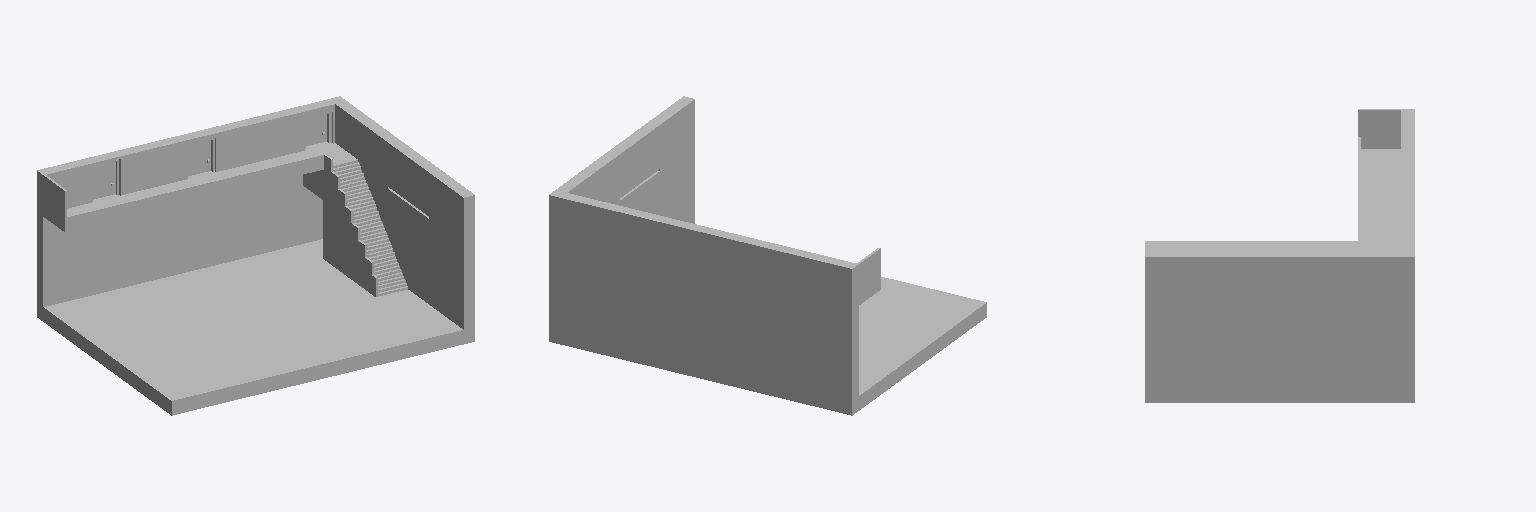
The model's file is interior.obj.
3 renders of one model, left to right at view 1: azimuth 30°, elevation 25°; view 2: azimuth 150°, elevation 25°; view 3: azimuth 270°, elevation 25°, orthographic.
Visible parts, largest first — view 1: object 1; view 2: object 1; view 3: object 1.
Part boxes in pixels (x1,y1,x2,y2): object 1: (37, 96, 474, 415); object 1: (549, 96, 986, 415); object 1: (1145, 109, 1414, 402).
Size of the model in its own units: 13 by 6 by 10.